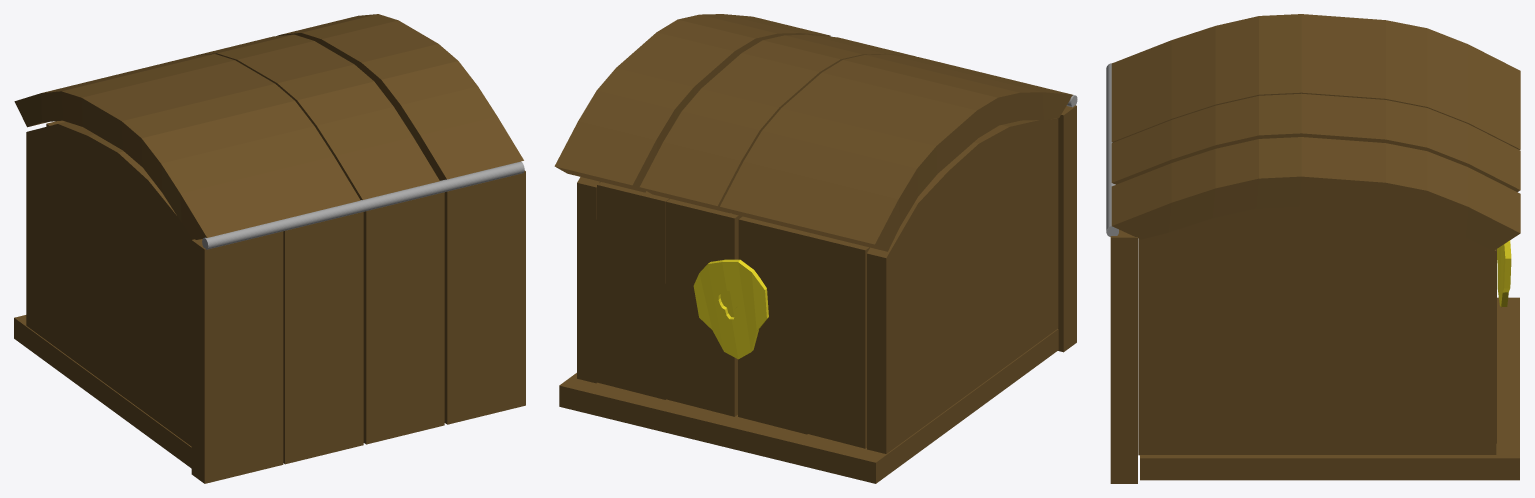
File: Chest.fbx
3 views of the same model, side by side, from view 1: azimuth 30°, elevation 25°; view 2: azimuth 150°, elevation 25°; view 3: azimuth 270°, elevation 25° (orthographic). The views are drawn at different scales.
Parts seen in each view (by area): view 1: Cube.009, Cube.004, Cube.003, Cube.006, Cube.007, Cube.005, Cube.002, Cube, Cube.001, Cube.008, Cylinder; view 2: Cube.009, Cube.003, Cube.002, Cube, Cube.001, Cube.008, Cube.011, Cube.014, Cube.013, Cube.012, Cube.015, Cube.004 (+1 smaller); view 3: Cube.010, Cube.002, Cube, Cube.001, Cube.003, Cube.008, Cube.007, Cylinder, Cube.015.
Boxes of the visible parts, left/top/right/bottom form: Cube.009: left=26, top=122, right=192, bottom=446; Cube.004: left=191, top=231, right=283, bottom=483; Cube.003: left=14, top=72, right=283, bottom=239; Cube.006: left=363, top=192, right=444, bottom=444; Cube.007: left=444, top=170, right=525, bottom=424; Cube.005: left=283, top=212, right=363, bottom=464; Cube.002: left=277, top=14, right=523, bottom=180; Cube: left=196, top=34, right=439, bottom=199; Cube.001: left=119, top=54, right=360, bottom=219; Cube.008: left=14, top=315, right=191, bottom=468; Cylinder: left=202, top=161, right=524, bottom=249; Cube.009: left=867, top=118, right=1058, bottom=453; Cube.003: left=797, top=73, right=1072, bottom=251; Cube.002: left=554, top=14, right=830, bottom=192; Cube: left=640, top=34, right=915, bottom=213; Cube.001: left=720, top=54, right=993, bottom=232; Cube.008: left=559, top=329, right=1058, bottom=483; Cube.011: left=596, top=182, right=669, bottom=399; Cube.014: left=807, top=233, right=869, bottom=448; Cube.013: left=738, top=216, right=810, bottom=434; Cube.012: left=665, top=199, right=742, bottom=416; Cube.015: left=693, top=259, right=768, bottom=359; Cube.004: left=1057, top=105, right=1076, bottom=352; Cube.010: left=1138, top=206, right=1496, bottom=455; Cube.002: left=1111, top=137, right=1520, bottom=250; Cube: left=1111, top=93, right=1520, bottom=191; Cube.001: left=1111, top=53, right=1520, bottom=149; Cube.003: left=1111, top=14, right=1520, bottom=109; Cube.008: left=1140, top=297, right=1519, bottom=480; Cube.007: left=1110, top=229, right=1137, bottom=483; Cylinder: left=1106, top=63, right=1118, bottom=236; Cube.015: left=1497, top=240, right=1511, bottom=307.
Size of the model in its own units: 207 by 180 by 218.
